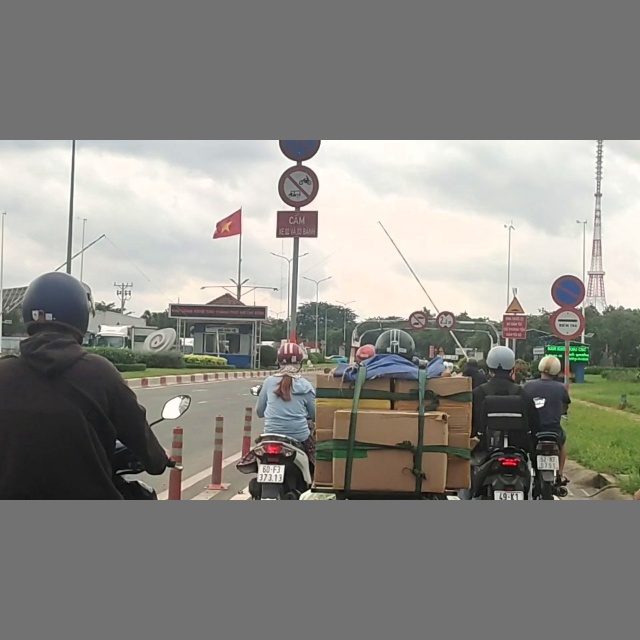P.107: (410, 311, 427, 331)
P.111: (279, 166, 319, 207)
P.117*: (436, 311, 455, 331)
P.129: (552, 307, 585, 340)
P.131a: (552, 275, 584, 306)
W.221b: (505, 297, 526, 315)
